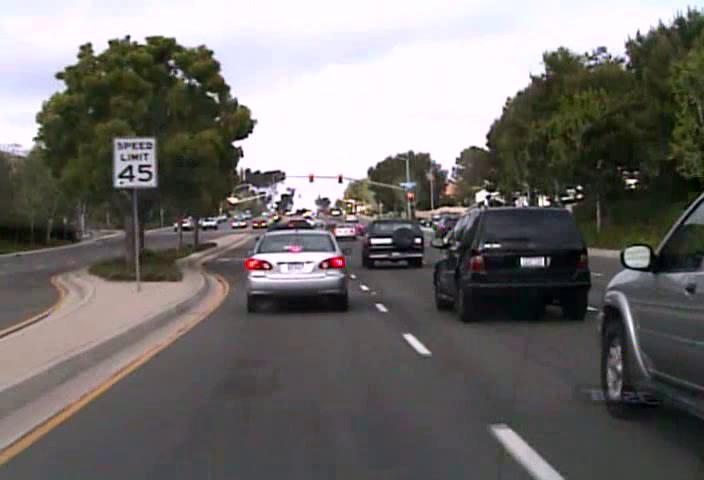speedLimit45: (112, 135, 157, 188)
